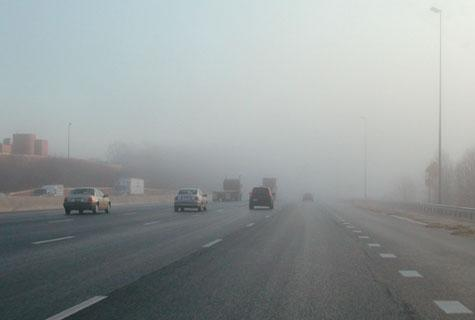bus: (211, 175, 244, 201), (261, 176, 277, 197)
car: (62, 186, 112, 214), (173, 186, 209, 211), (248, 185, 274, 210), (32, 184, 64, 199), (302, 191, 313, 202)
